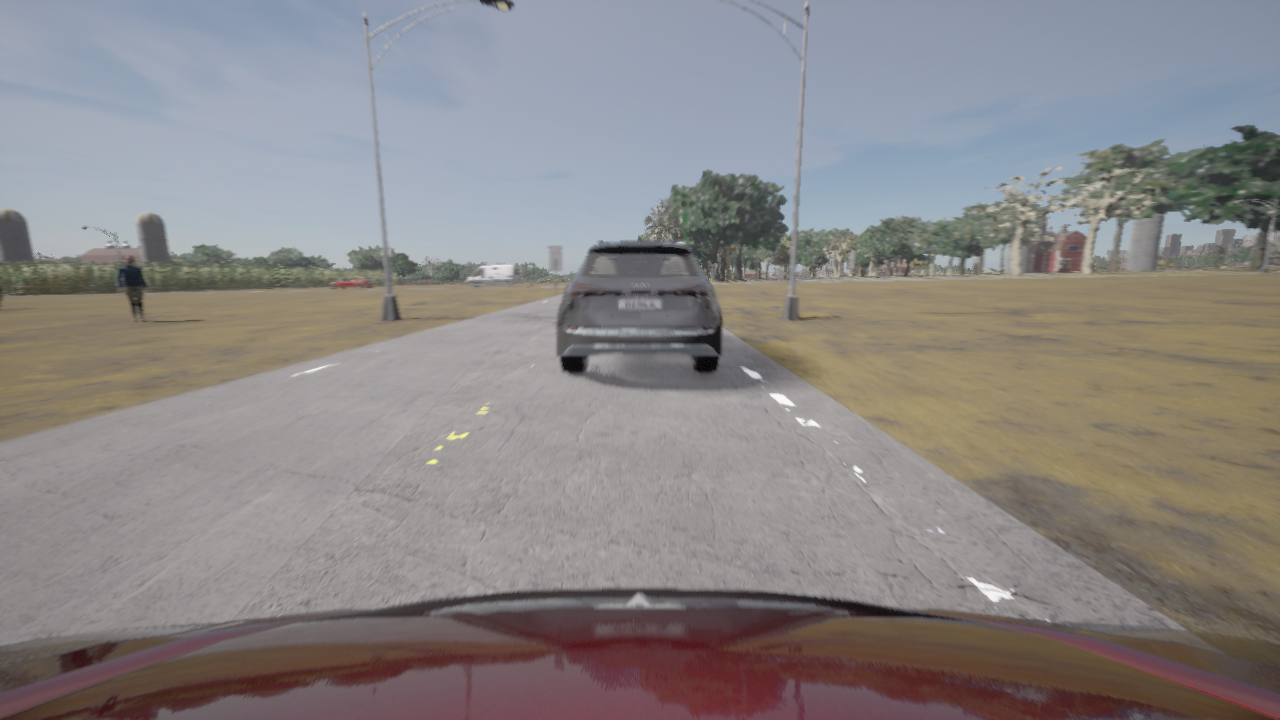cyclist: (0, 588, 1279, 719), (557, 237, 722, 373), (465, 265, 518, 287), (330, 276, 374, 289)
pedestrian: (116, 255, 150, 322)
